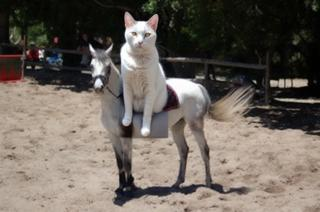cat: (119, 11, 167, 137)
horse: (85, 42, 254, 199)
